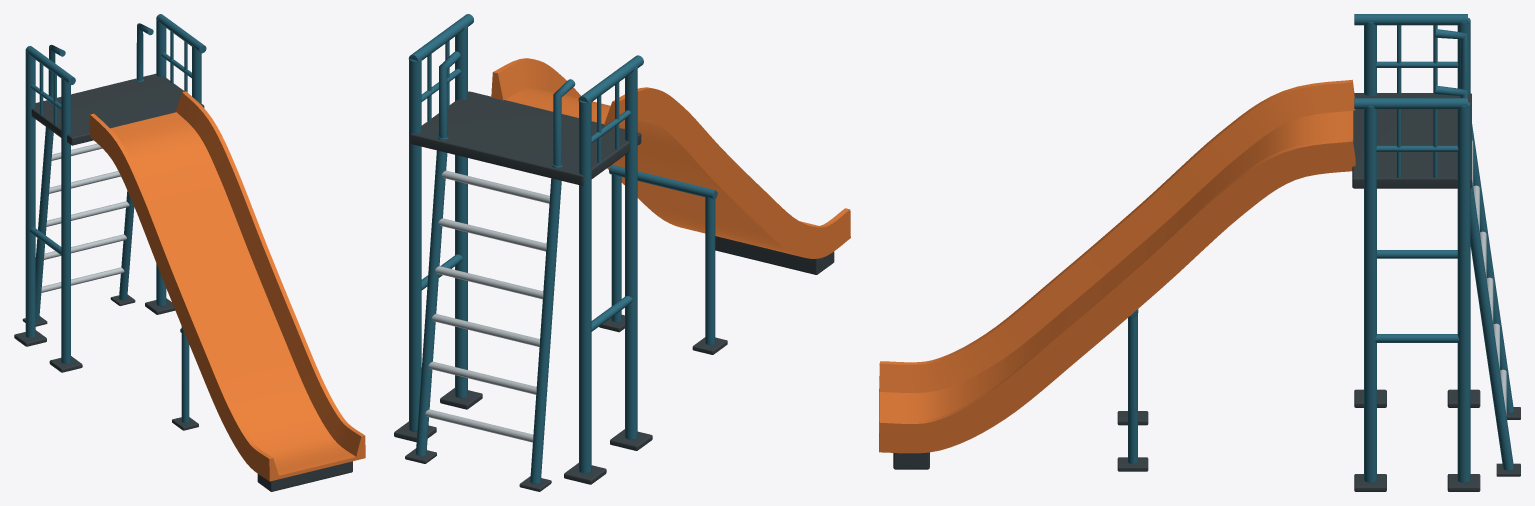
File: city-playground-slide.glb
3 views of the same model, side by side, from view 1: azimuth 30°, elevation 25°; view 2: azimuth 150°, elevation 25°; view 3: azimuth 270°, elevation 25° (orthographic). The views are drawn at different scales.
Visible parts, largest first — view 1: Continuous curved chute and raised sides, Upper platform deck, Platform structural upright.001, Platform structural upright, Rear ladder stile, Chute exit support, Platform structural upright.003, Rear ladder stile.001, Mid-chute ground support, Side handrail.001, Side handrail, Platform structural upright.002 (+5 smaller); view 2: Continuous curved chute and raised sides, Upper platform deck, Platform structural upright.001, Platform structural upright, Platform structural upright.003, Rear ladder stile, Platform structural upright.002, Rear ladder stile.001, Chute exit support, Mid-chute ground support, Mid-chute ground support.001, Under-chute cross support (+13 smaller); view 3: Continuous curved chute and raised sides, Upper platform deck, Platform structural upright.003, Platform structural upright.002, Rear ladder stile.001, Rear ladder stile, Mid-chute ground support.001, Side handrail.001, Side handrail, Platform structural upright, Platform lower brace.001, Platform lower brace (+1 smaller).
Boxes of the visible parts, x1,y1,x2,y2 form: Continuous curved chute and raised sides: (89, 91, 365, 481); Upper platform deck: (31, 73, 204, 145); Platform structural upright.001: (25, 51, 35, 337); Platform structural upright: (61, 77, 70, 363); Rear ladder stile: (35, 101, 53, 321); Chute exit support: (257, 461, 352, 491); Platform structural upright.003: (156, 19, 166, 306); Rear ladder stile.001: (119, 78, 143, 300); Mid-chute ground support: (181, 326, 189, 422); Side handrail.001: (156, 14, 206, 53); Side handrail: (25, 46, 75, 84); Platform structural upright.002: (192, 45, 201, 103); Continuous curved chute and raised sides: (491, 58, 850, 258); Upper platform deck: (410, 91, 641, 185); Platform structural upright.001: (579, 100, 591, 473); Platform structural upright: (625, 66, 637, 439); Platform structural upright.003: (409, 59, 421, 431); Rear ladder stile: (530, 164, 562, 483); Platform structural upright.002: (455, 25, 467, 398); Rear ladder stile.001: (416, 136, 448, 455); Chute exit support: (715, 236, 834, 274); Mid-chute ground support: (705, 196, 715, 344); Mid-chute ground support.001: (611, 173, 621, 322); Under-chute cross support: (609, 165, 717, 199); Continuous curved chute and raised sides: (879, 79, 1355, 453); Upper platform deck: (1352, 93, 1471, 188); Platform structural upright.003: (1457, 102, 1470, 482); Platform structural upright.002: (1364, 106, 1376, 482); Rear ladder stile.001: (1470, 181, 1513, 470); Rear ladder stile: (1472, 124, 1513, 413); Mid-chute ground support.001: (1128, 314, 1137, 463); Side handrail.001: (1354, 98, 1467, 109); Side handrail: (1354, 14, 1467, 25); Platform structural upright: (1364, 22, 1376, 95); Platform lower brace.001: (1375, 334, 1459, 342); Platform lower brace: (1377, 250, 1457, 258).
Size of the model in its own units: 1.14 by 2.1 by 3.16.
